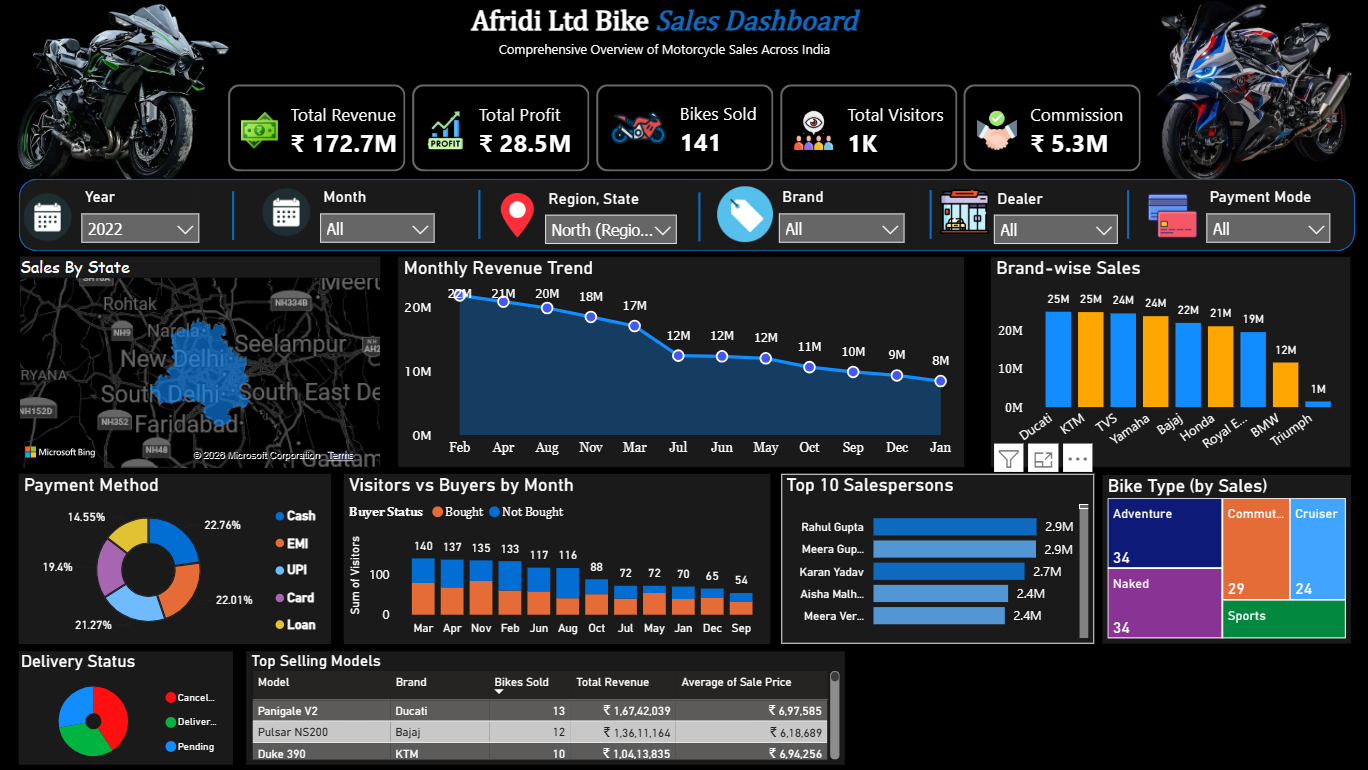

The page's visual inventory and layout, read from the dashboard file:
{"tool":"powerbi","page":{"name":"Page 1","canvas":[1280,720],"ordinal":0},"visuals":[{"type":"textbox","box":[384.9,0,466.3,61.6],"z":0},{"type":"image","box":[0,0,228.8,176.2],"z":1000},{"type":"image","box":[1050,0,230,176.7],"z":2000},{"type":"cardVisual","fields":{"Data":["BikeSales.Total Revenue","BikeSales.Total Profit","BikeSales.Bikes Sold","BikeSales.Total Visitors","BikeSales.Total Commission"]},"box":[195.3,61.6,887.2,115.1],"z":3000},{"type":"shape","box":[17.4,166.3,1243,67.4],"z":4000},{"type":"slicer","fields":{"Values":["BikeSales.Year"]},"box":[70.9,169.8,124.4,59.3],"z":5000},{"type":"slicer","fields":{"Values":["BikeSales.Month"]},"box":[293,169.8,120.9,59.3],"z":6000},{"type":"slicer","fields":{"Values":["BikeSales.Region","BikeSales.State"]},"box":[502.3,170.9,137.2,59.3],"z":7000},{"type":"slicer","fields":{"Values":["BikeSales.Brand"]},"box":[719.8,169.8,131.4,59.3],"z":8000},{"type":"slicer","fields":{"Values":["BikeSales.Dealer"]},"box":[919.8,170.9,130.2,59.3],"z":9000},{"type":"slicer","fields":{"Values":["BikeSales.Payment Mode"]},"box":[1117.4,169.8,130.2,59.3],"z":10000},{"type":"image","box":[17.4,174.4,53.5,55.8],"z":11000},{"type":"image","box":[239.5,169.8,53.5,55.8],"z":12000},{"type":"image","box":[460.5,177.9,41.9,45.3],"z":13000},{"type":"image","box":[1064,176.7,53.5,47.7],"z":14000},{"type":"image","box":[666.3,173.3,53.5,52.3],"z":15000},{"type":"image","box":[874.4,170.9,45.3,52.3],"z":16000},{"type":"filledMap","title":"Sales By State","fields":{"Category":["BikeSales.State"]},"box":[18.6,238,334.9,196.5],"z":17000},{"type":"lineChart","title":"Monthly Revenue Trend","fields":{"Y":["BikeSales.Total Revenue"],"Category":["BikeSales.Month"]},"box":[369.8,238.4,527.9,196.5],"z":18000},{"type":"clusteredColumnChart","title":"Brand-wise Sales","fields":{"Y":["Sum(BikeSales.Sale Price)"],"Category":["BikeSales.Brand"]},"box":[920.9,238.4,336,196.5],"z":19000},{"type":"donutChart","title":"Payment Method","fields":{"Category":["BikeSales.Payment Mode"],"Y":["CountNonNull(BikeSales.Payment Mode)"]},"box":[17.4,441,290.7,158.1],"z":20000},{"type":"shape","box":[184.9,177.9,64,45.3],"z":21000},{"type":"shape","box":[414,176.7,64,45.3],"z":22000},{"type":"shape","box":[618.6,179.1,64,45.3],"z":23000},{"type":"shape","box":[833.7,176.7,64,45.3],"z":24000},{"type":"shape","box":[1017.4,176.7,64,45.3],"z":25000},{"type":"columnChart","title":"Visitors vs Buyers by Month","fields":{"Category":["BikeSales.Month"],"Y":["Sum(BikeSales.Visitors)"],"Series":["BikeSales.Buyer Status"]},"box":[320,440.7,396.5,158.1],"z":26000},{"type":"barChart","title":"Top 10 Salespersons","fields":{"Category":["BikeSales.Salesperson Name"],"Y":["BikeSales.Total Revenue"]},"box":[726.7,440.7,290.7,158.1],"z":27000},{"type":"treemap","title":"Bike Type (by Sales)","fields":{"Group":["BikeSales.Bike Type"],"Values":["BikeSales.Bikes Sold"]},"box":[1025.6,441.9,231.4,157],"z":28000},{"type":"donutChart","title":"Delivery Status","fields":{"Category":["BikeSales.Delivery Status"],"Y":["CountNonNull(BikeSales.Delivery Status)"]},"box":[17.4,605.8,198.8,105.8],"z":29000},{"type":"tableEx","title":"Top Selling Models","fields":{"Values":["BikeSales.Model","BikeSales.Brand","BikeSales.Bikes Sold","BikeSales.Total Revenue","Avg(BikeSales.Sale Price)"]},"box":[229.1,605.8,557,105.8],"z":30000}]}

Visuals, with their boxes in screenshot pixels (x1, y1, x2, y2), scaled from the page's 1280x720 canvas onto the 1368x770 screenshot:
textbox: <region>411, 0, 910, 66</region>
image: <region>0, 0, 245, 188</region>
image: <region>1122, 0, 1367, 189</region>
cardVisual - BikeSales.Total Revenue x BikeSales.Total Profit: <region>209, 66, 1157, 189</region>
shape: <region>19, 178, 1347, 250</region>
slicer - BikeSales.Year: <region>76, 182, 209, 245</region>
slicer - BikeSales.Month: <region>313, 182, 442, 245</region>
slicer - BikeSales.Region x BikeSales.State: <region>537, 183, 683, 246</region>
slicer - BikeSales.Brand: <region>769, 182, 910, 245</region>
slicer - BikeSales.Dealer: <region>983, 183, 1122, 246</region>
slicer - BikeSales.Payment Mode: <region>1194, 182, 1333, 245</region>
image: <region>19, 187, 76, 246</region>
image: <region>256, 182, 313, 241</region>
image: <region>492, 190, 537, 239</region>
image: <region>1137, 189, 1194, 240</region>
image: <region>712, 185, 769, 241</region>
image: <region>935, 183, 983, 239</region>
"Sales By State" filledMap: <region>20, 255, 378, 465</region>
"Monthly Revenue Trend" lineChart: <region>395, 255, 959, 465</region>
"Brand-wise Sales" clusteredColumnChart: <region>984, 255, 1343, 465</region>
"Payment Method" donutChart: <region>19, 472, 329, 641</region>
shape: <region>198, 190, 266, 239</region>
shape: <region>442, 189, 511, 237</region>
shape: <region>661, 192, 730, 240</region>
shape: <region>891, 189, 959, 237</region>
shape: <region>1087, 189, 1156, 237</region>
"Visitors vs Buyers by Month" columnChart: <region>342, 471, 766, 640</region>
"Top 10 Salespersons" barChart: <region>777, 471, 1087, 640</region>
"Bike Type (by Sales)" treemap: <region>1096, 473, 1343, 640</region>
"Delivery Status" donutChart: <region>19, 648, 231, 761</region>
"Top Selling Models" tableEx: <region>245, 648, 840, 761</region>
